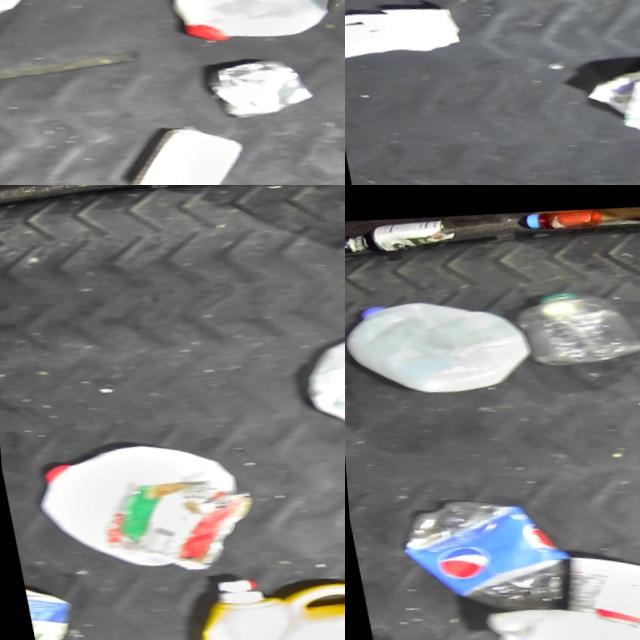can: (197, 40, 316, 119), (366, 210, 463, 258), (345, 232, 372, 262)
milk_jug: (21, 421, 249, 582), (345, 281, 538, 407), (474, 584, 640, 640), (283, 298, 345, 438), (153, 0, 337, 43)
non_white_jug: (171, 535, 345, 640)
plastic_bottle: (387, 478, 568, 622)
